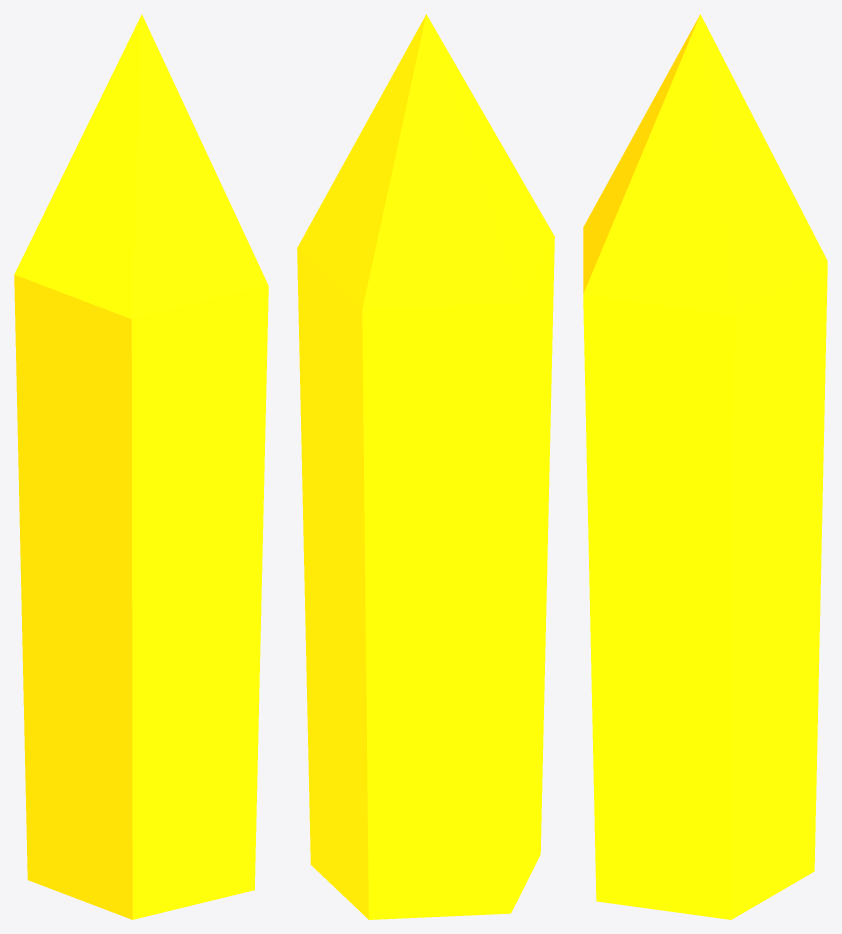
The model's file is GemSpike.fbx.
3 renders of one model, left to right at view 1: azimuth 30°, elevation 25°; view 2: azimuth 150°, elevation 25°; view 3: azimuth 270°, elevation 25°, orthographic.
Parts seen in each view (by area): view 1: GemSpike; view 2: GemSpike; view 3: GemSpike.
Part boxes in pixels (left/top/right/bottom): GemSpike: left=14, top=14, right=268, bottom=919; GemSpike: left=297, top=14, right=554, bottom=919; GemSpike: left=583, top=14, right=827, bottom=919.
Bounding box in the file's own units: 82.32 × 303 × 78.29.
